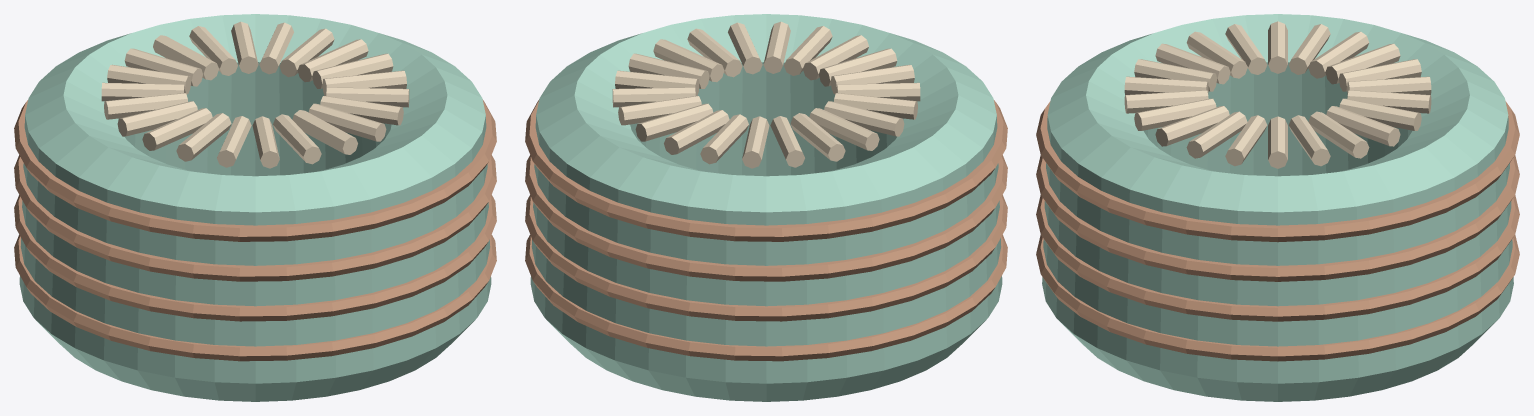
File: tea_futaoki.glb
3 renders of one model, left to right at view 1: azimuth 30°, elevation 25°; view 2: azimuth 150°, elevation 25°; view 3: azimuth 270°, elevation 25°, orthographic.
Parts seen in each view (by area): view 1: Ceramic futaoki with recessed center, Hand-cut concentric ribs.003, Hand-cut concentric ribs.002, Hand-cut concentric ribs.001, Hand-cut concentric ribs, Lid rest decorative radial carving18, Lid rest decorative radial carving11, Lid rest decorative radial carving12, Lid rest decorative radial carving17, Lid rest decorative radial carving19, Lid rest decorative radial carving10, Lid rest decorative radial carving7 (+15 smaller); view 2: Ceramic futaoki with recessed center, Hand-cut concentric ribs.003, Hand-cut concentric ribs.002, Hand-cut concentric ribs.001, Hand-cut concentric ribs, Lid rest decorative radial carving4, Lid rest decorative radial carving11, Lid rest decorative radial carving10, Lid rest decorative radial carving5, Lid rest decorative radial carving3, Lid rest decorative radial carving12, Lid rest decorative radial carving15 (+15 smaller); view 3: Ceramic futaoki with recessed center, Hand-cut concentric ribs.003, Hand-cut concentric ribs.002, Hand-cut concentric ribs.001, Hand-cut concentric ribs, Lid rest decorative radial carving3, Lid rest decorative radial carving19, Lid rest decorative radial carving4, Lid rest decorative radial carving18, Lid rest decorative radial carving2, Lid rest decorative radial carving20, Lid rest decorative radial carving5 (+15 smaller).
Part boxes in pixels (x1,y1,x2,y2): Ceramic futaoki with recessed center: (19,14,491,401); Hand-cut concentric ribs.003: (14,99,496,241); Hand-cut concentric ribs.002: (14,155,496,281); Hand-cut concentric ribs.001: (14,195,496,321); Hand-cut concentric ribs: (14,234,496,361); Lid rest decorative radial carving18: (308,103,386,141); Lid rest decorative radial carving11: (117,101,197,136); Lid rest decorative radial carving12: (142,108,212,150); Lid rest decorative radial carving17: (292,110,357,154); Lid rest decorative radial carving19: (320,96,403,125); Lid rest decorative radial carving10: (104,93,187,119); Lid rest decorative radial carving7: (124,48,202,86); Ceramic futaoki with recessed center: (530,14,1002,401); Hand-cut concentric ribs.003: (525,99,1007,241); Hand-cut concentric ribs.002: (525,155,1007,281); Hand-cut concentric ribs.001: (525,195,1007,321); Hand-cut concentric ribs: (525,234,1007,361); Lid rest decorative radial carving4: (635,103,713,141); Lid rest decorative radial carving11: (824,101,904,136); Lid rest decorative radial carving10: (809,108,879,150); Lid rest decorative radial carving5: (664,110,729,154); Lid rest decorative radial carving3: (618,96,701,125); Lid rest decorative radial carving12: (834,93,917,119); Lid rest decorative radial carving15: (819,48,897,86); Ceramic futaoki with recessed center: (1042,14,1513,401); Hand-cut concentric ribs.003: (1036,101,1519,242); Hand-cut concentric ribs.002: (1036,155,1519,281); Hand-cut concentric ribs.001: (1036,195,1519,321); Hand-cut concentric ribs: (1036,235,1519,361); Lid rest decorative radial carving3: (1326,106,1400,146); Lid rest decorative radial carving19: (1155,106,1229,146); Lid rest decorative radial carving4: (1339,98,1421,130); Lid rest decorative radial carving18: (1134,98,1216,130); Lid rest decorative radial carving2: (1308,111,1369,158); Lid rest decorative radial carving20: (1186,111,1247,158); Lid rest decorative radial carving5: (1347,90,1431,113).
Size of the model in its own units: 1.95 by 1.08 by 1.95.
